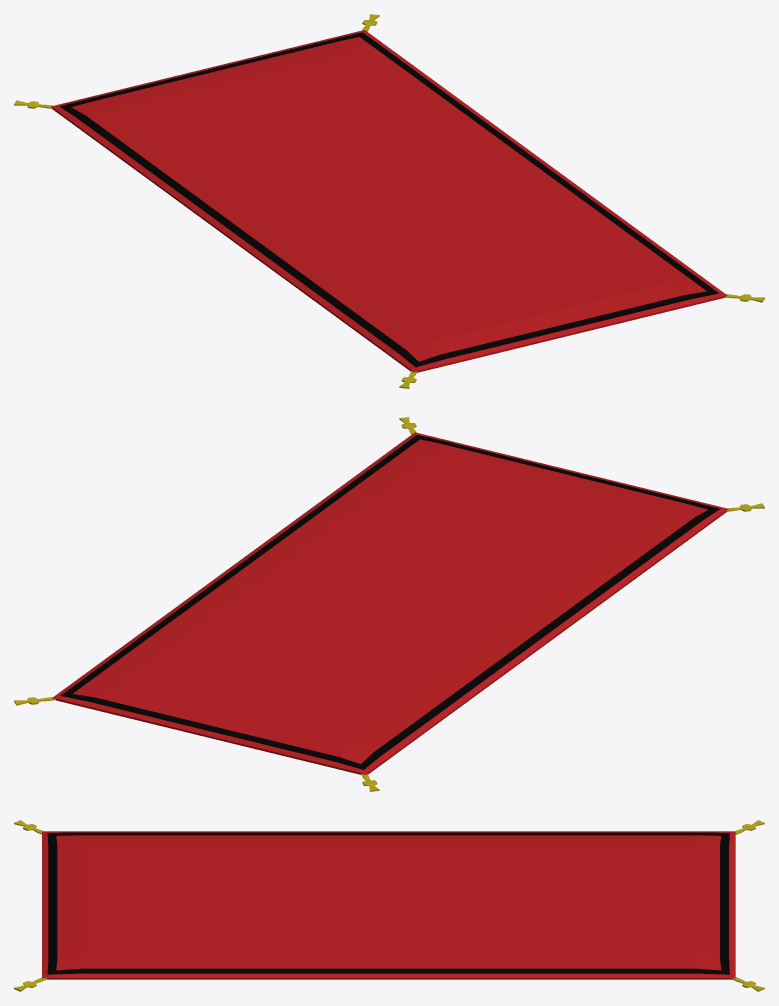
The model's file is Carpet2x4.glb.
The picture shows the model from 3 angles, top to bottom: view 1: azimuth 30°, elevation 25°; view 2: azimuth 150°, elevation 25°; view 3: azimuth 270°, elevation 25°; orthographic projection. The views are drawn at different scales.
Parts seen in each view (by area): view 1: Cube; view 2: Cube; view 3: Cube.
Boxes of the visible parts, x1,y1,x2,y2 form: Cube: (14, 14, 764, 388); Cube: (14, 417, 764, 791); Cube: (14, 820, 764, 991).
Size of the model in its own units: 2.33 by 0.0426 by 4.33.
